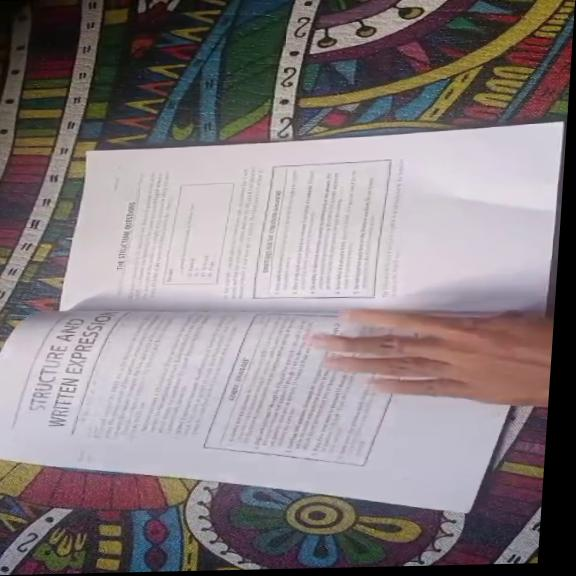Kertas: (0, 299, 521, 519), (57, 125, 561, 320)
